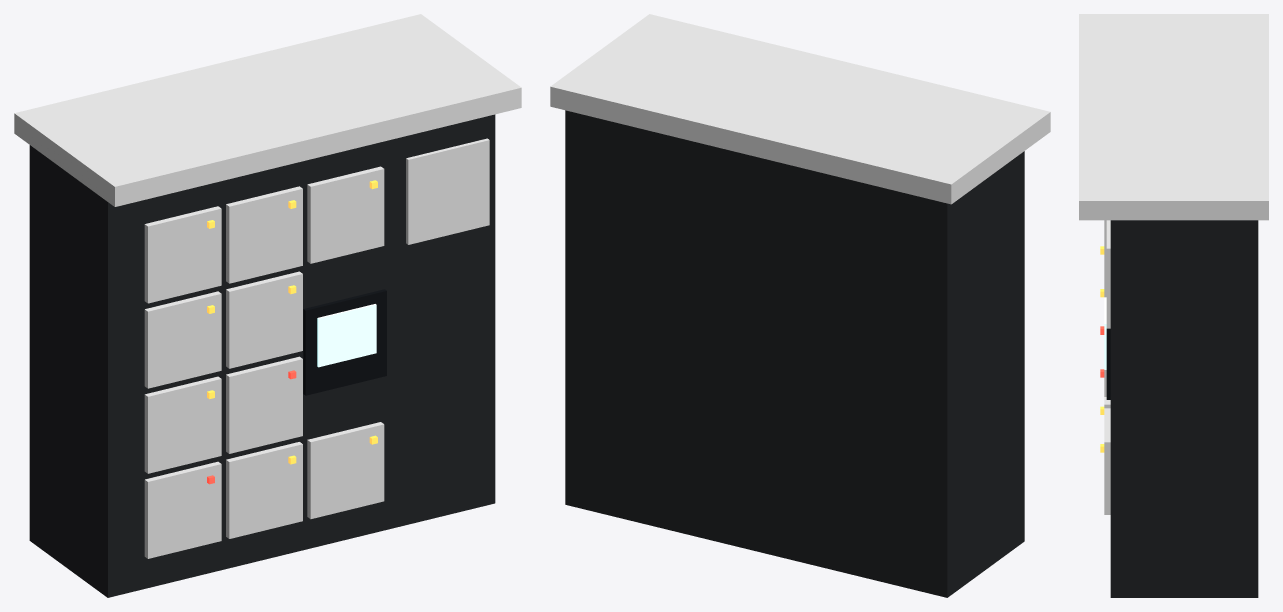
Rendered from prop_locker.gltf.
3 views of the same model, side by side, from view 1: azimuth 30°, elevation 25°; view 2: azimuth 150°, elevation 25°; view 3: azimuth 270°, elevation 25° (orthographic). The views are drawn at different scales.
Visible parts, largest first — view 1: graphite, olive, titanium, steel, dark, glow_cyan; view 2: graphite, olive; view 3: graphite, olive, steel, dark, titanium.
Boxes of the visible parts, <box> form: graphite: <box>29,114,495,597</box>; olive: <box>14,14,521,558</box>; titanium: <box>144,166,384,538</box>; steel: <box>406,138,489,244</box>; dark: <box>303,289,386,395</box>; glow_cyan: <box>317,304,376,367</box>; graphite: <box>565,110,1024,597</box>; olive: <box>550,14,1050,204</box>; graphite: <box>1110,220,1258,597</box>; olive: <box>1079,14,1268,514</box>; steel: <box>1106,220,1110,328</box>; dark: <box>1106,328,1110,399</box>; titanium: <box>1104,220,1110,408</box>.
Size of the model in its own units: 2.1 by 2.1 by 0.9.
